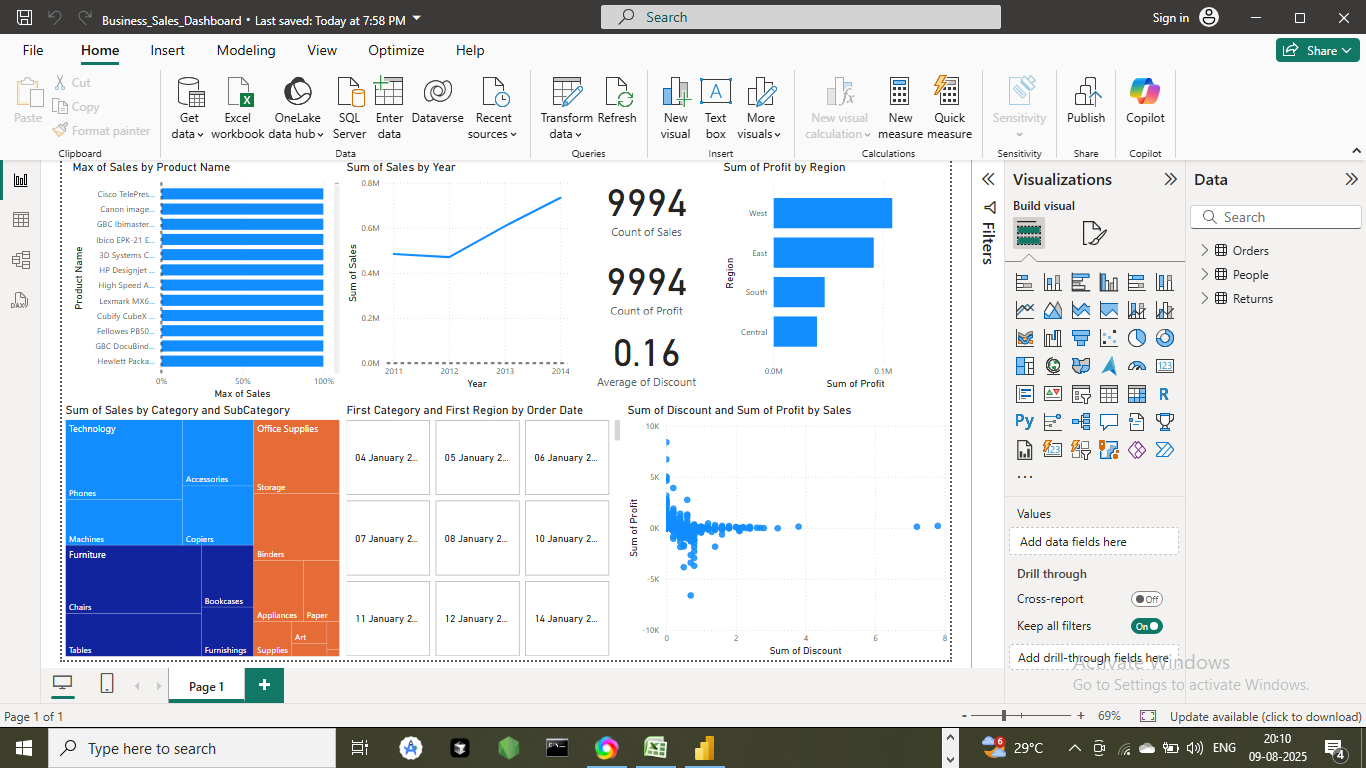

Layout of this report page (visuals, bound fields, positions):
{"tool":"powerbi","page":{"name":"Page 1","canvas":[1280,720],"ordinal":0},"visuals":[{"type":"hundredPercentStackedBarChart","fields":{"Category":["Orders.Product Name"],"Y":["Max(Orders.Sales)"]},"box":[10.1,0,394.6,349.9],"z":0},{"type":"lineChart","fields":{"Category":["Orders.Order Date.Variation.Date Hierarchy.Year","Orders.Order Date.Variation.Date Hierarchy.Month"],"Y":["Sum(Orders.Sales)"]},"box":[404.6,0,331.2,335.5],"z":1},{"type":"treemap","fields":{"Values":["Sum(Orders.Sales)"],"Group":["Orders.Category"],"Details":["Orders.SubCategory"]},"box":[0,349.9,404.6,370.1],"z":2},{"type":"clusteredBarChart","fields":{"Category":["Orders.Region"],"Y":["Sum(Orders.Profit)"]},"box":[947.5,0,332.6,335.5],"z":3},{"type":"scatterChart","fields":{"X":["Sum(Orders.Discount)"],"Y":["Sum(Orders.Profit)"],"Category":["Orders.Sales"]},"box":[809.3,349.9,470.9,370.1],"z":4},{"type":"advancedSlicerVisual","fields":{"Values":["Orders.Order Date"]},"box":[404.6,349.9,404.6,370.1],"z":5},{"type":"card","fields":{"Values":["CountNonNull(Orders.Sales)"]},"box":[735.8,0,211.7,129.6],"z":6},{"type":"card","fields":{"Values":["CountNonNull(Orders.Profit)"]},"box":[735.8,129.6,211.7,97.9],"z":7},{"type":"card","fields":{"Values":["Avg(Orders.Discount)"]},"box":[735.8,227.5,211.7,108],"z":8}]}

Visuals, with their boxes on the page's 1280x720 design canvas (x1, y1, x2, y2). These are canvas units, not pixel positions in the 1366x768 screenshot, which may show the page scaled, cropped or inside an application window:
hundredPercentStackedBarChart - Orders.Product Name x Max(Orders.Sales): pyautogui.locateOnScreen(10, 0, 405, 350)
lineChart - Orders.Order Date.Variation.Date Hierarchy.Year x Orders.Order Date.Variation.Date Hierarchy.Month: pyautogui.locateOnScreen(405, 0, 736, 336)
treemap - Sum(Orders.Sales) x Orders.Category: pyautogui.locateOnScreen(0, 350, 405, 720)
clusteredBarChart - Orders.Region x Sum(Orders.Profit): pyautogui.locateOnScreen(948, 0, 1280, 336)
scatterChart - Sum(Orders.Discount) x Sum(Orders.Profit): pyautogui.locateOnScreen(809, 350, 1280, 720)
advancedSlicerVisual - Orders.Order Date: pyautogui.locateOnScreen(405, 350, 809, 720)
card - CountNonNull(Orders.Sales): pyautogui.locateOnScreen(736, 0, 948, 130)
card - CountNonNull(Orders.Profit): pyautogui.locateOnScreen(736, 130, 948, 228)
card - Avg(Orders.Discount): pyautogui.locateOnScreen(736, 228, 948, 336)
